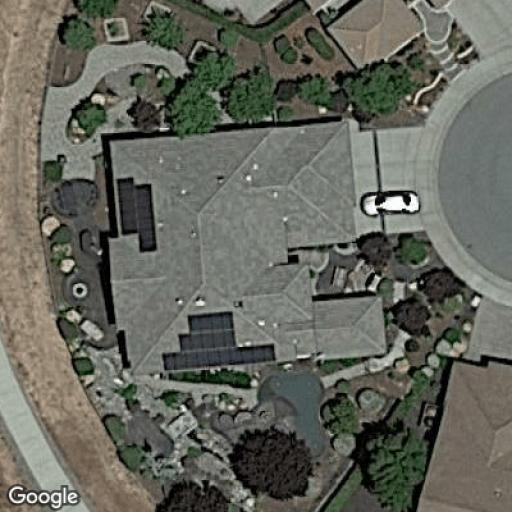solar-panel: (158, 310, 278, 370), (115, 175, 160, 255)
